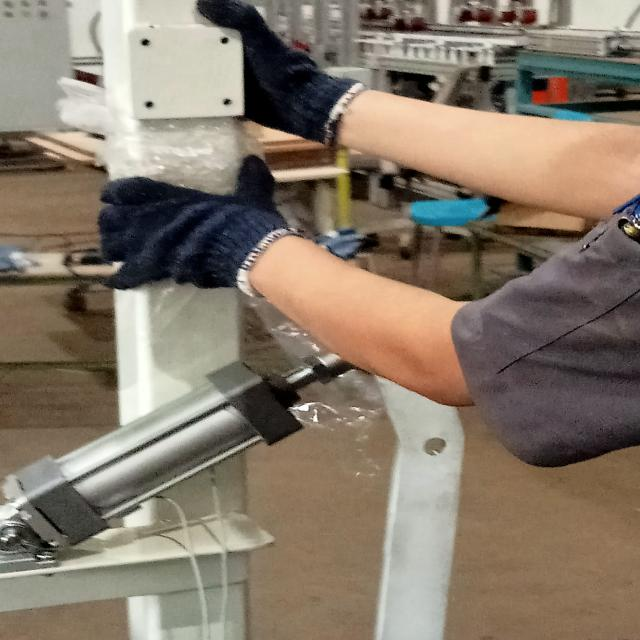Gloves-Detection: (98, 169, 296, 310), (192, 3, 362, 144)
